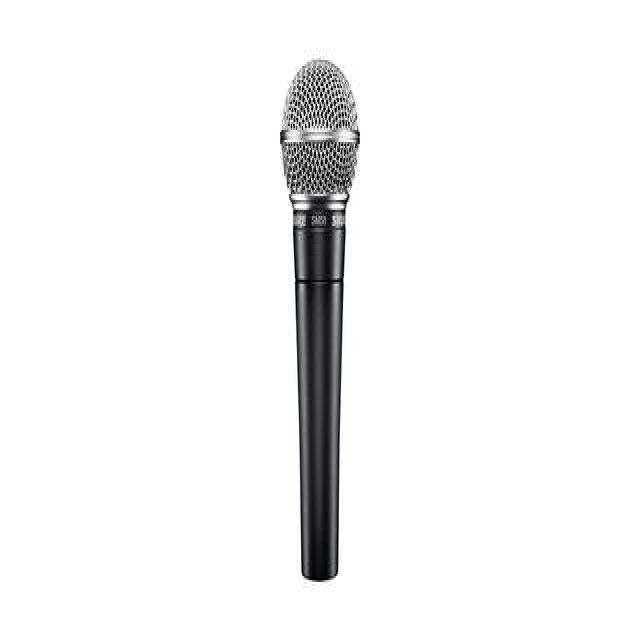microphone: (277, 51, 364, 583)
